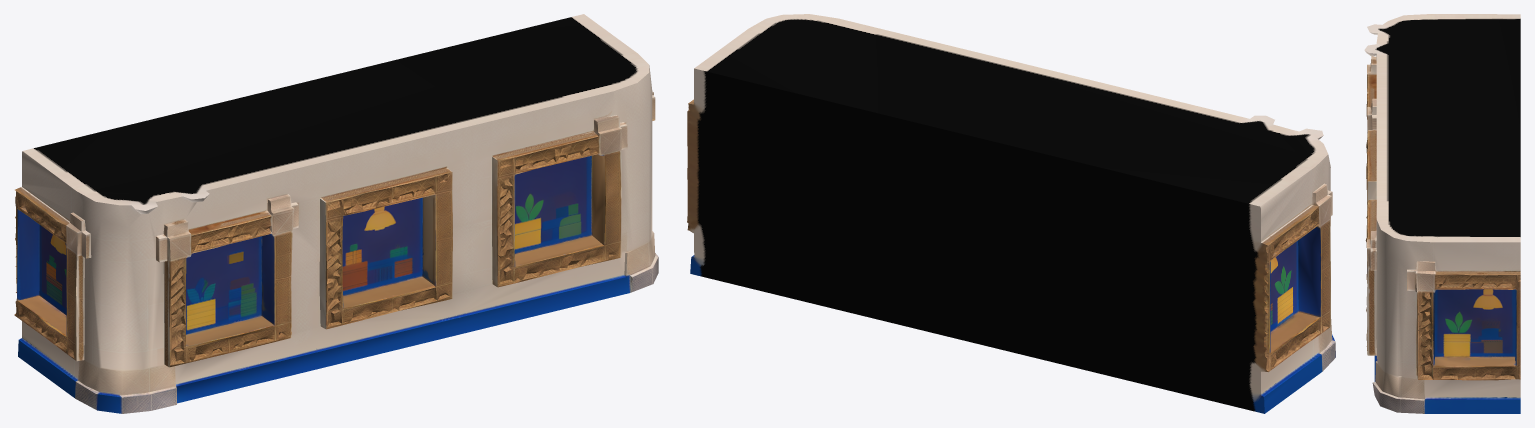
The model's file is 5-upper-walls-front.fbx.
3 views of the same model, side by side, from view 1: azimuth 30°, elevation 25°; view 2: azimuth 150°, elevation 25°; view 3: azimuth 270°, elevation 25° (orthographic). The views are drawn at different scales.
Parts seen in each view (by area): view 1: upper-walls-front; view 2: upper-walls-front; view 3: upper-walls-front.
Part boxes in pixels (x1,y1,x2,y2): upper-walls-front: (14,14,658,413); upper-walls-front: (687,14,1335,413); upper-walls-front: (1364,14,1520,413).
Size of the model in its own units: 7662 by 2589 by 2154.
1 material, 1 textured.
